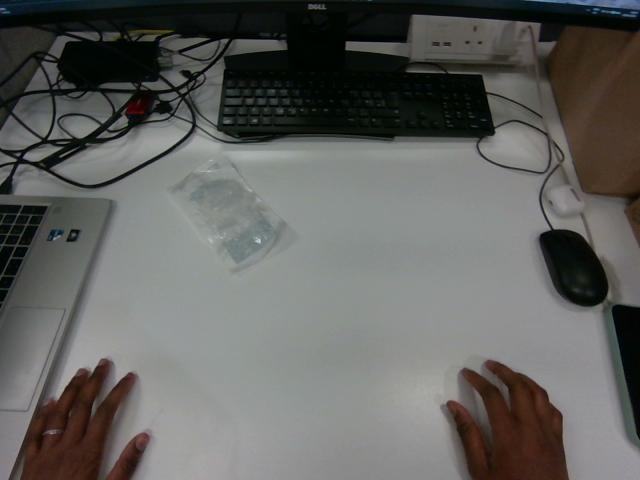gallipot: (171, 157, 283, 270)
